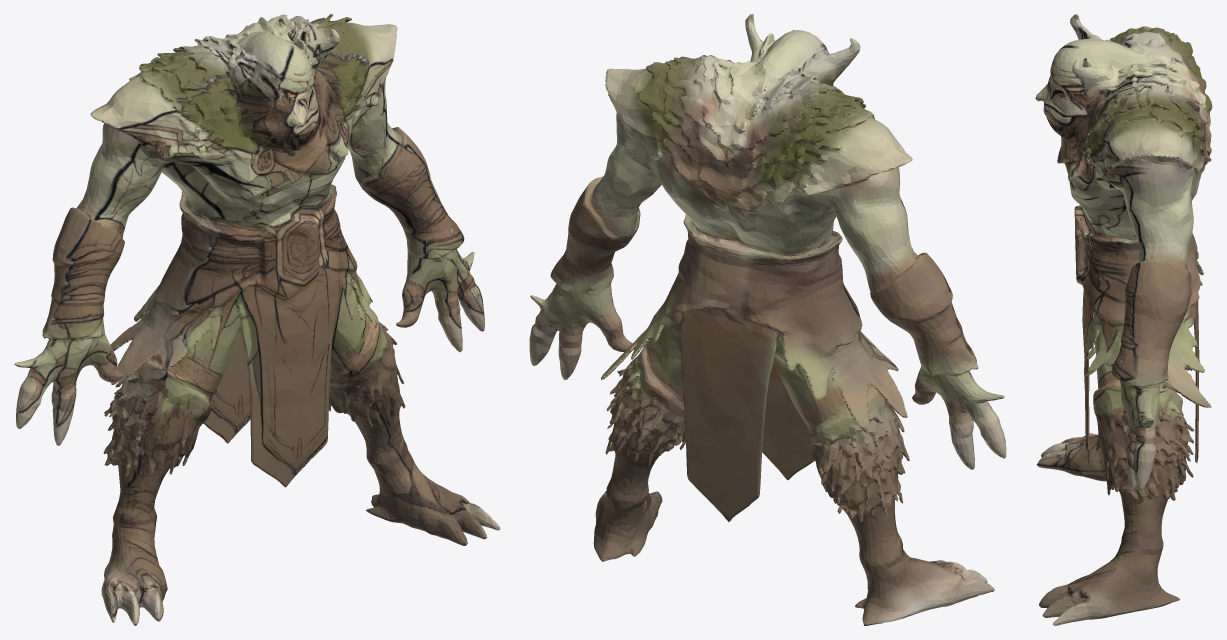
File: grimhide_townsperson_local.glb
3 views of the same model, side by side, from view 1: azimuth 30°, elevation 25°; view 2: azimuth 150°, elevation 25°; view 3: azimuth 270°, elevation 25° (orthographic). The views are drawn at different scales.
Visible parts, largest first — view 1: geometry_0; view 2: geometry_0; view 3: geometry_0.
Part boxes in pixels (x1,y1,x2,y2): geometry_0: (14, 14, 500, 625); geometry_0: (529, 14, 1006, 625); geometry_0: (1035, 14, 1212, 625).
Bounding box in the file's own units: 1.86 × 2 × 0.6433.
Materials: 1 (1 with a texture image).
